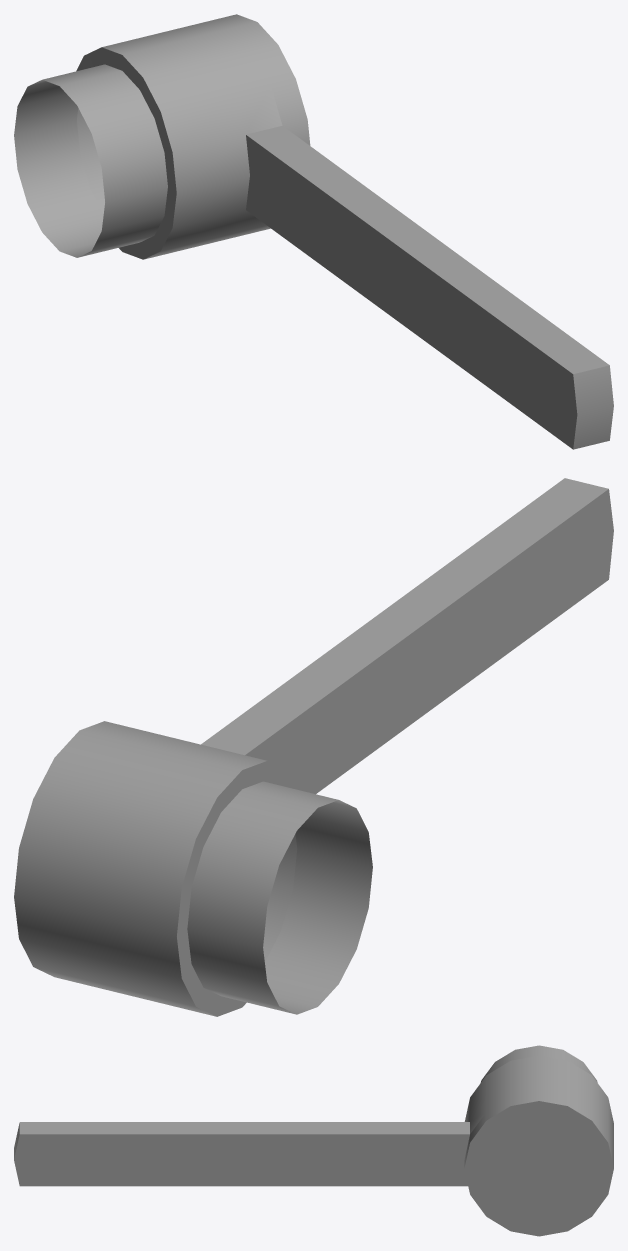
Rendered from SinkFaucetKnob_19.obj.
3 views of the same model, one above another, from view 1: azimuth 30°, elevation 25°; view 2: azimuth 150°, elevation 25°; view 3: azimuth 270°, elevation 25° (orthographic). The views are drawn at different scales.
Visible parts, largest first — view 1: SinkFaucetKnob_19; view 2: SinkFaucetKnob_19; view 3: SinkFaucetKnob_19.
Boxes of the visible parts, bbox=[...] form: SinkFaucetKnob_19: bbox=[14, 14, 613, 449]; SinkFaucetKnob_19: bbox=[14, 478, 613, 1016]; SinkFaucetKnob_19: bbox=[14, 1045, 613, 1236].
Size of the model in its own units: 0.0191 by 0.0182 by 0.0729.
1 material, 1 textured.
